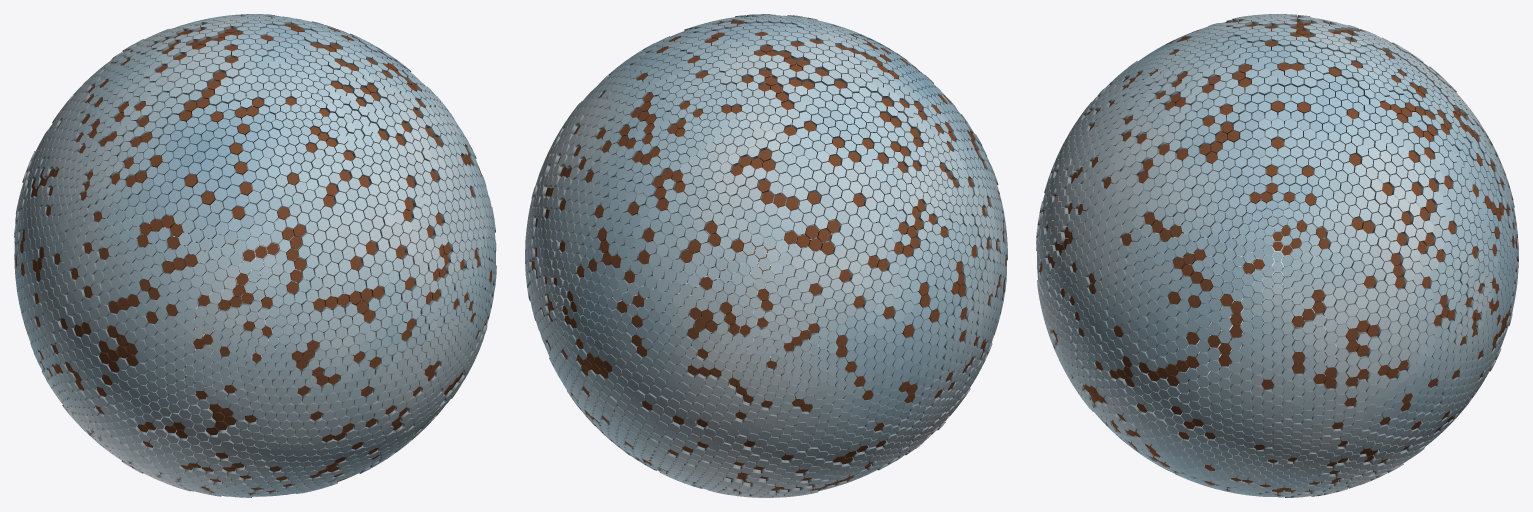
Rendered from ice_0.glb.
3 views of the same model, side by side, from view 1: azimuth 30°, elevation 25°; view 2: azimuth 150°, elevation 25°; view 3: azimuth 270°, elevation 25° (orthographic).
Visible parts, largest first — view 1: ice_0; view 2: ice_0; view 3: ice_0.
Part boxes in pixels (x1,y1,x2,y2): ice_0: (14, 14, 496, 497); ice_0: (525, 14, 1007, 497); ice_0: (1036, 14, 1518, 497).
Size of the model in its own units: 2.02 by 2.01 by 2.01.
